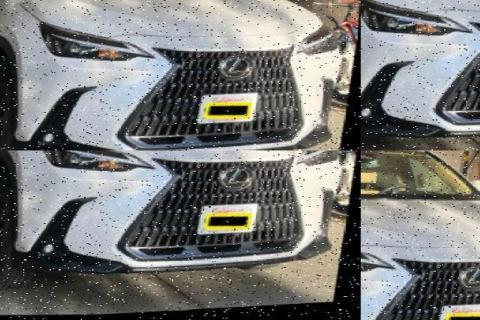LicensePlate: (441, 307, 478, 319)
